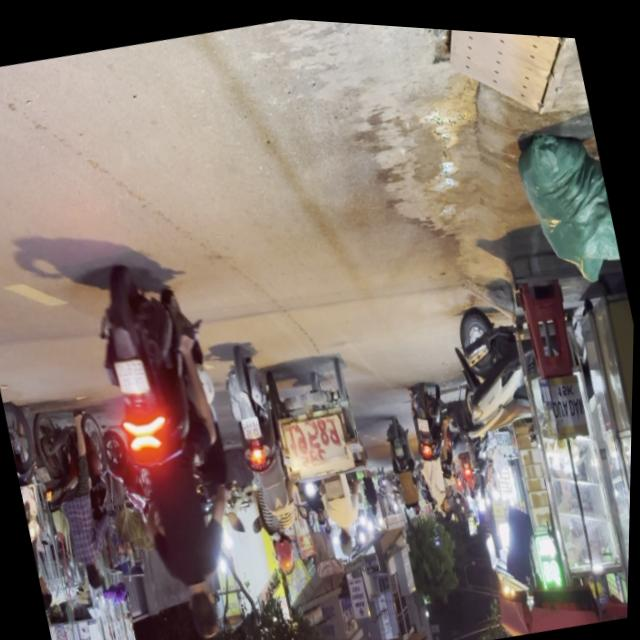helmet: (270, 528, 299, 571)
licenseplate: (74, 246, 273, 640), (213, 337, 317, 576)
motorcyclist: (183, 577, 226, 640), (38, 571, 57, 613), (83, 560, 106, 591)
nohelmet: (114, 355, 149, 395), (240, 410, 263, 437)
